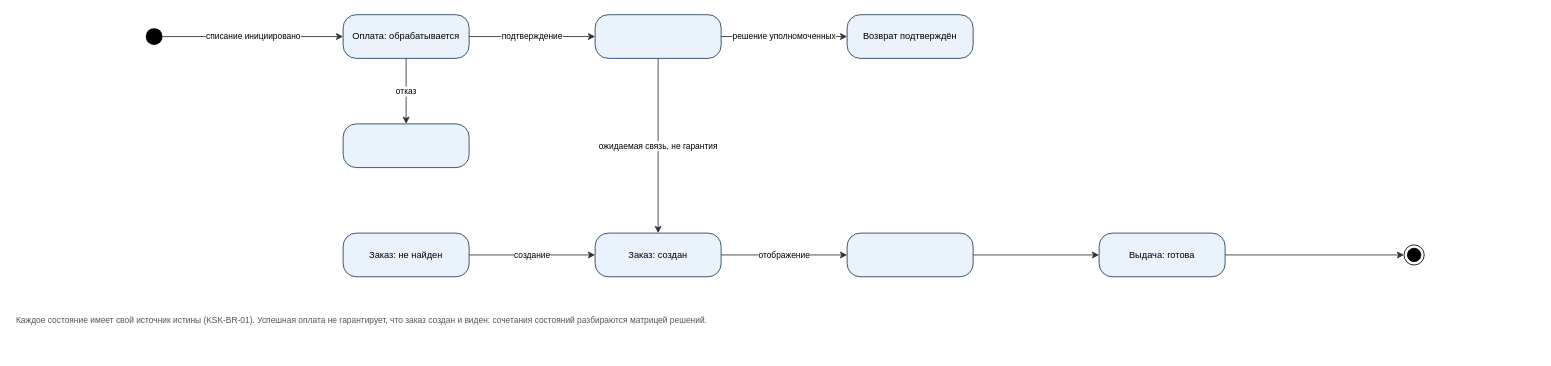
This 1551x366 diagram has some shape labels left out. The shapes that lost their labels are listed below. From the top down, each one's box as (x1, y1, x2, y2) in pixels, then its label:
(594, 14, 721, 58): Оплата: подтверждена
(342, 123, 469, 168): Оплата: отклонена
(846, 232, 973, 277): Заказ: виден клиенту
